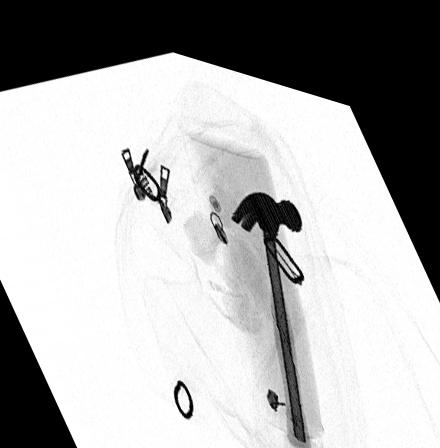Hammer: (230, 176, 312, 436)
